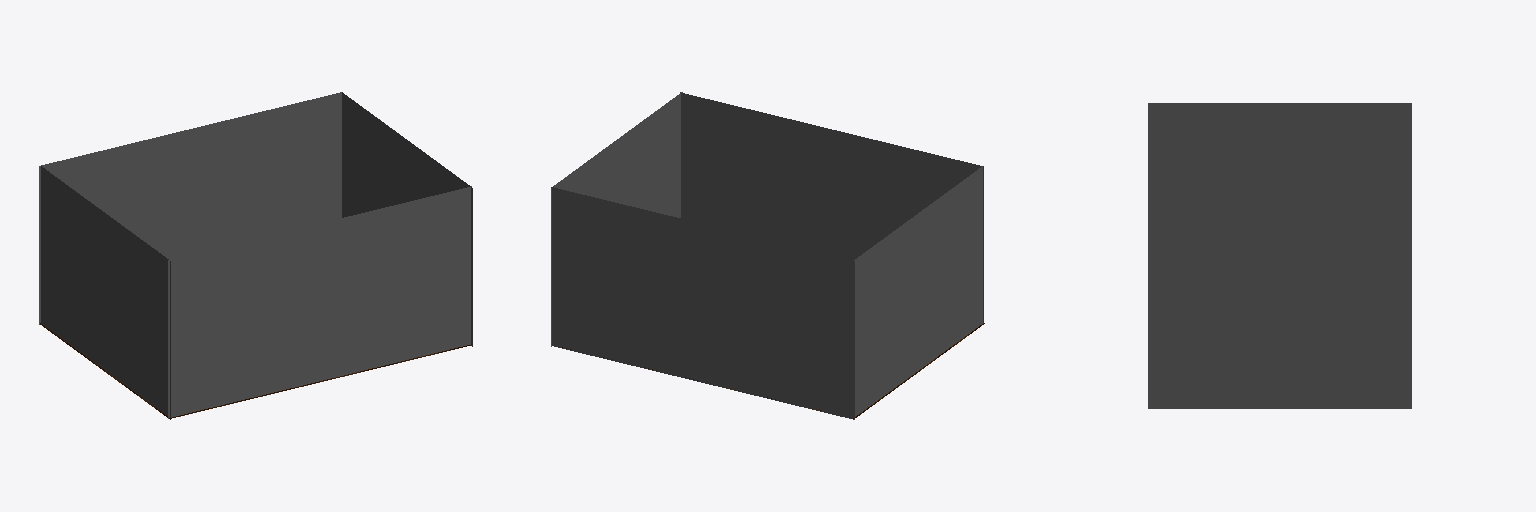
3 views of the same model, side by side, from view 1: azimuth 30°, elevation 25°; view 2: azimuth 150°, elevation 25°; view 3: azimuth 270°, elevation 25° (orthographic).
Visible parts, largest first — view 1: Plane.002_Plane.001, Plane.004_Plane.007, Plane.005_Plane.002, Plane.003_Plane.009; view 2: Plane.004_Plane.007, Plane.002_Plane.001, Plane.005_Plane.002, Plane.003_Plane.009; view 3: Plane.003_Plane.009, Plane.005_Plane.002.
Part boxes in pixels (x1,y1,x2,y2): Plane.002_Plane.001: (168,186,471,418); Plane.004_Plane.007: (39,92,341,324); Plane.005_Plane.002: (41,166,170,419); Plane.003_Plane.009: (342,92,472,346); Plane.004_Plane.007: (551,187,854,419); Plane.002_Plane.001: (680,92,983,323); Plane.005_Plane.002: (854,166,982,416); Plane.003_Plane.009: (551,92,682,346); Plane.003_Plane.009: (1148,250,1411,408); Plane.005_Plane.002: (1148,103,1411,249).
Size of the model in its own units: 4 by 2 by 3.
2 materials, 1 textured.